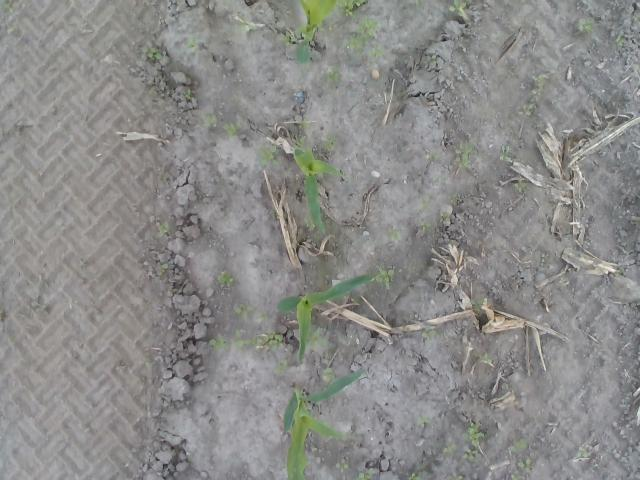Maize: (282, 366, 368, 480), (274, 273, 377, 362), (290, 141, 344, 239), (292, 0, 336, 64)
Weeds: (208, 327, 284, 352), (345, 16, 384, 62), (510, 434, 530, 480), (231, 300, 268, 322), (463, 420, 481, 464), (253, 144, 284, 169), (452, 139, 476, 169), (334, 0, 368, 20), (376, 263, 396, 292), (306, 326, 332, 348), (236, 13, 258, 36), (446, 0, 467, 19), (528, 74, 544, 98), (318, 63, 338, 82), (182, 30, 200, 50), (222, 119, 242, 137), (216, 270, 234, 290), (154, 222, 172, 240), (517, 99, 536, 116), (478, 348, 494, 368), (320, 134, 337, 152), (386, 225, 403, 243), (418, 325, 433, 345), (498, 144, 512, 165), (144, 45, 162, 61), (512, 176, 528, 194), (442, 442, 458, 460), (278, 33, 294, 50), (576, 17, 592, 32), (334, 458, 349, 474), (319, 365, 336, 379), (156, 260, 170, 277), (448, 192, 464, 206), (414, 415, 430, 428), (0, 0, 15, 13), (576, 446, 592, 458), (419, 221, 433, 234), (430, 174, 449, 183), (355, 468, 369, 480), (430, 150, 443, 162), (206, 114, 217, 128), (446, 471, 463, 480), (407, 471, 423, 480), (182, 86, 193, 99), (272, 364, 286, 374), (614, 35, 626, 46), (438, 212, 450, 222), (310, 446, 320, 454)
